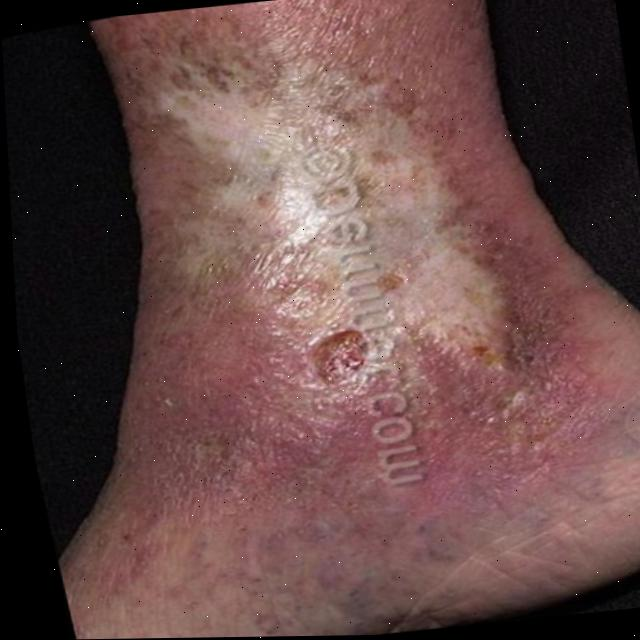Eczema: (153, 0, 515, 420)
